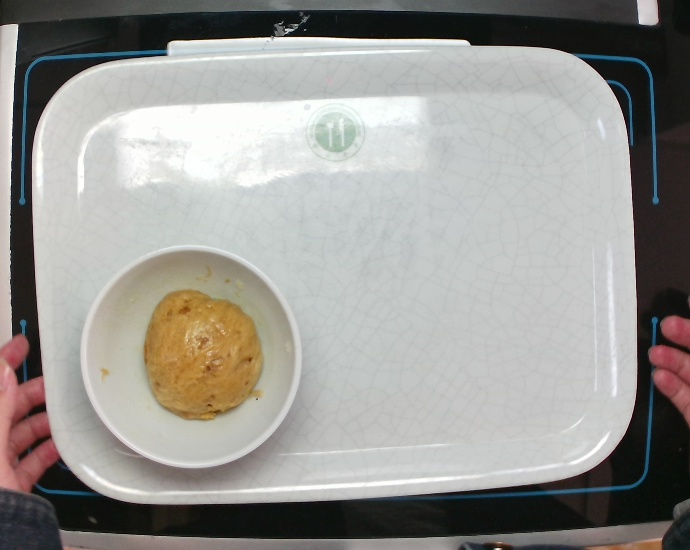JYsf-Fan_Wan: (78, 243, 304, 471)
